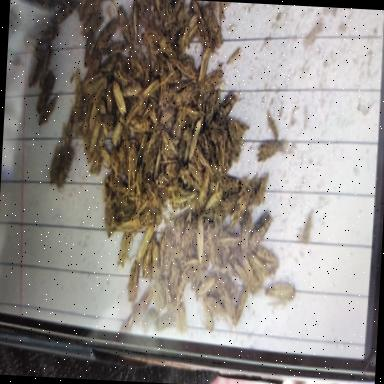pbw: (191, 208, 207, 267), (250, 214, 273, 255), (258, 132, 284, 166), (34, 74, 56, 114), (232, 184, 252, 228), (109, 79, 128, 123), (265, 280, 296, 304), (28, 54, 46, 94), (256, 246, 281, 274), (222, 257, 244, 288), (116, 228, 133, 268), (174, 53, 198, 81), (37, 96, 58, 128), (118, 2, 134, 44), (48, 143, 66, 180), (217, 94, 239, 124), (188, 117, 202, 164), (232, 292, 249, 330), (53, 1, 74, 31), (196, 297, 213, 334), (230, 261, 252, 289), (80, 12, 102, 40), (57, 152, 74, 188), (182, 16, 200, 50), (127, 112, 150, 138), (40, 40, 54, 82), (252, 170, 269, 204), (127, 260, 140, 304), (200, 72, 222, 98), (250, 257, 270, 285), (238, 209, 250, 255), (149, 238, 162, 280), (88, 116, 102, 154), (97, 24, 115, 53), (138, 308, 156, 336), (160, 131, 178, 159), (84, 74, 108, 95), (191, 2, 210, 28), (75, 0, 94, 26), (205, 298, 229, 318), (126, 144, 138, 184), (122, 74, 140, 100), (133, 294, 151, 320), (157, 34, 175, 60), (196, 278, 215, 302), (194, 146, 210, 173), (128, 2, 140, 38), (179, 83, 197, 107), (156, 310, 176, 331), (241, 258, 257, 284), (111, 116, 124, 146), (81, 104, 93, 136), (142, 76, 159, 98), (172, 192, 195, 208), (85, 36, 98, 64), (65, 112, 76, 143), (198, 44, 208, 78), (142, 250, 152, 284), (187, 166, 202, 188), (218, 232, 238, 248), (198, 175, 208, 207), (100, 143, 112, 169), (178, 303, 188, 332), (220, 196, 231, 219), (209, 190, 221, 211), (161, 107, 175, 125), (153, 0, 166, 13)
